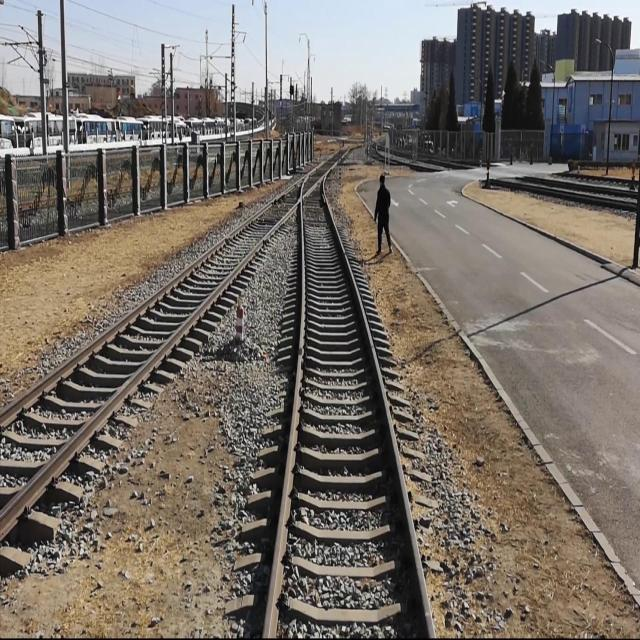rail: (0, 147, 351, 543), (0, 148, 342, 430), (323, 176, 437, 639), (262, 174, 309, 638)
